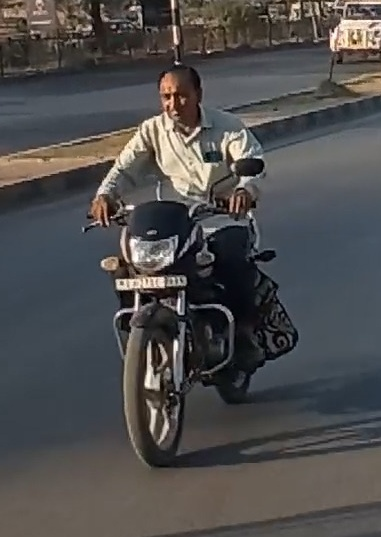BikeWithRider: (74, 58, 305, 474)
NoHelmet: (146, 59, 212, 129)
